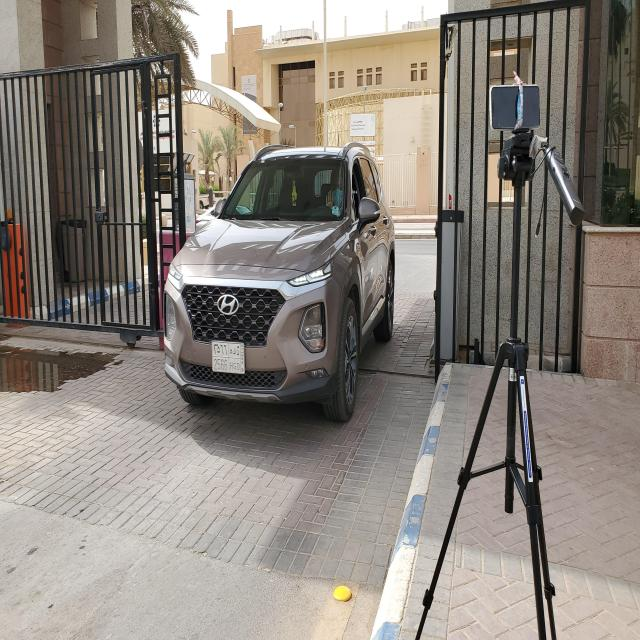license_plate: (211, 338, 245, 374)
